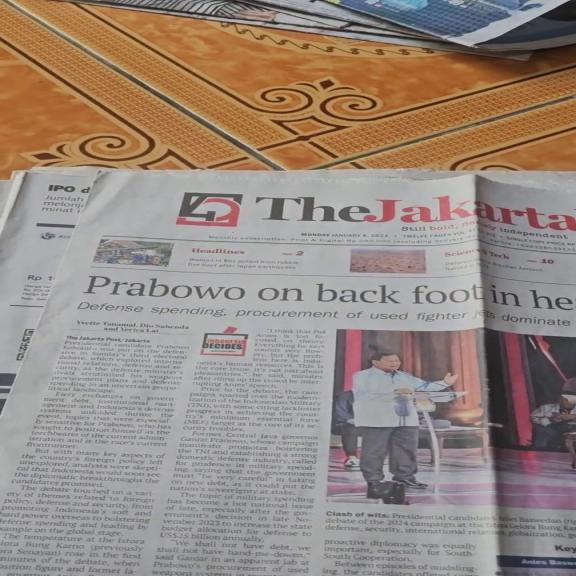Kertas: (6, 169, 564, 576)
